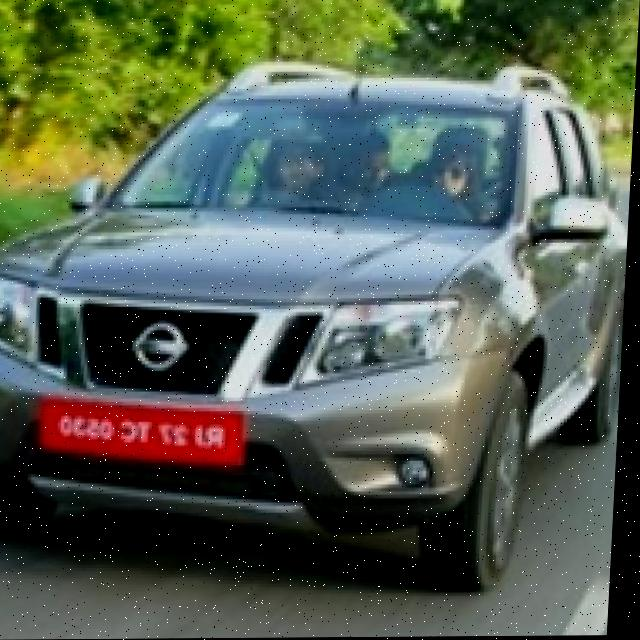plate: (39, 393, 260, 473)
